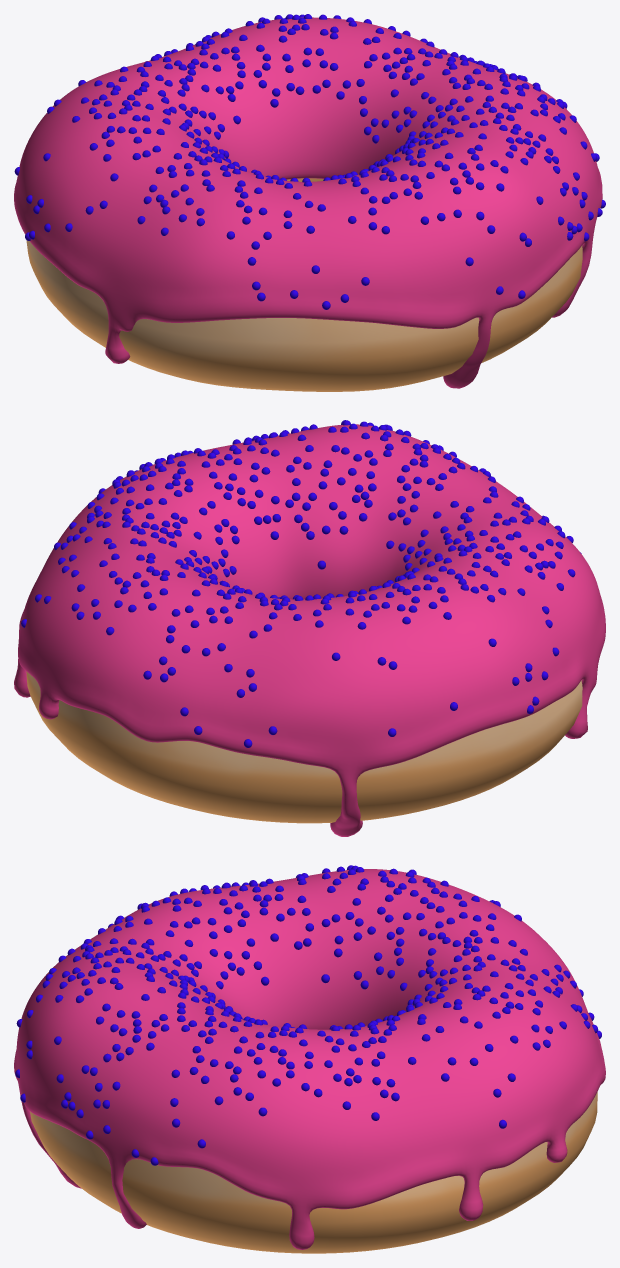
Rendered from donut.glb.
The picture shows the model from 3 angles, top to bottom: view 1: azimuth 30°, elevation 25°; view 2: azimuth 150°, elevation 25°; view 3: azimuth 270°, elevation 25°; orthographic projection.
Parts seen in each view (by area): view 1: icing, donut; view 2: icing, donut; view 3: icing, donut.
Boxes of the visible parts, x1,y1,x2,y2 form: icing: (14,17,602,388); donut: (26,178,582,391); icing: (14,424,605,836); donut: (26,671,582,823); icing: (14,869,605,1249); donut: (30,1092,597,1253).
Size of the model in its own units: 1.27 by 0.5361 by 1.27.
3 materials, 1 textured.
